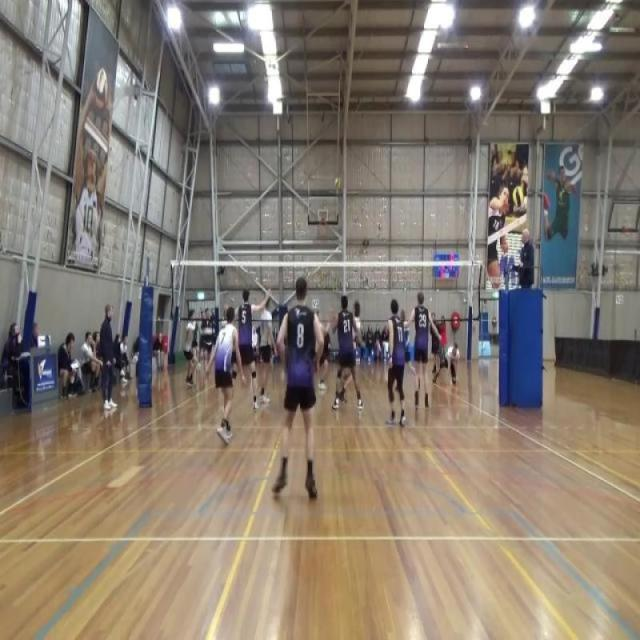volleyball: (94, 66, 108, 110), (512, 185, 525, 209), (334, 176, 342, 191)
